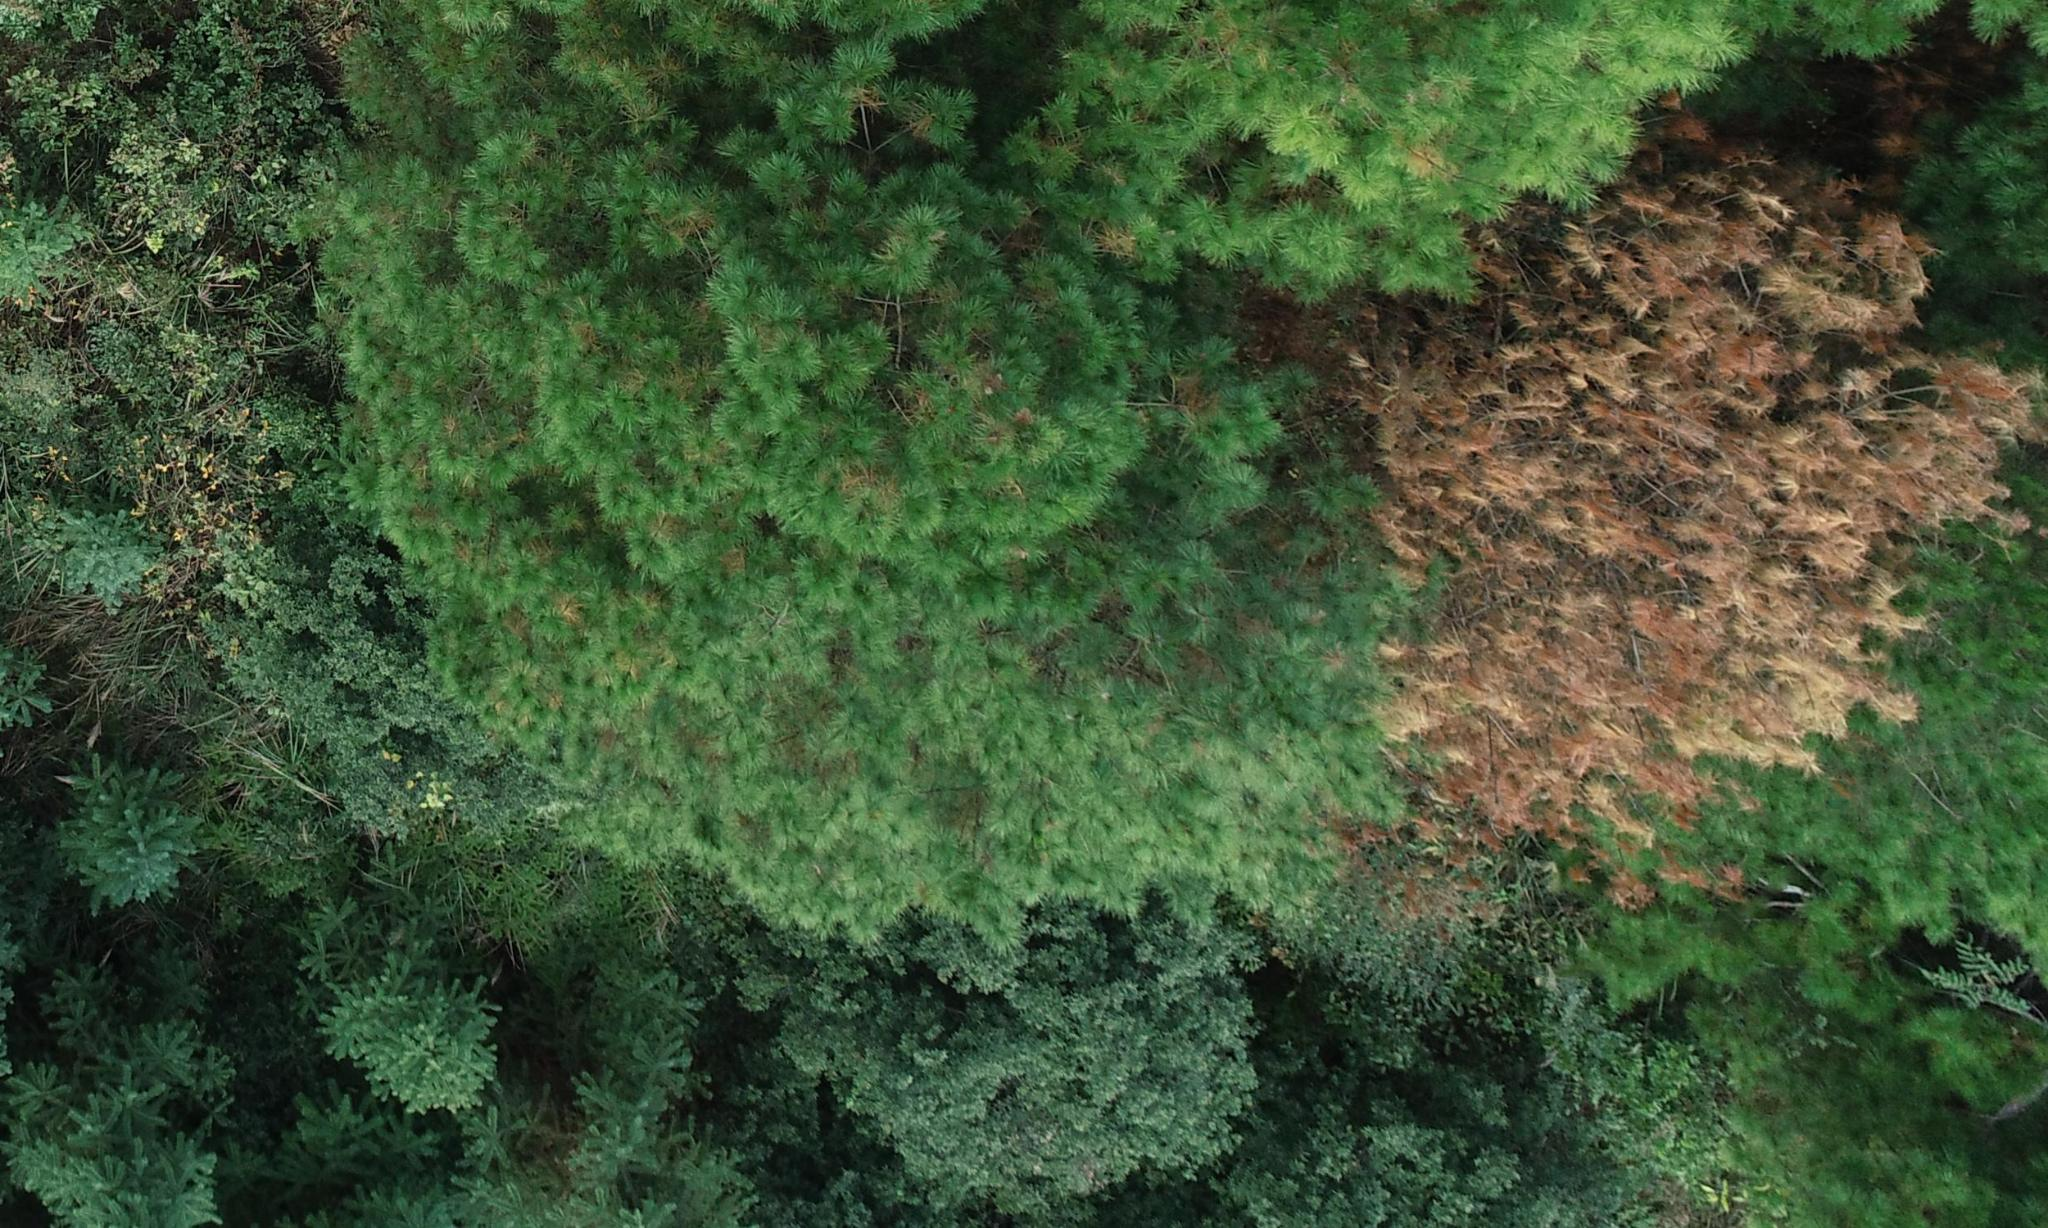heavy: (1342, 102, 2048, 925)
light: (251, 94, 1285, 908)
